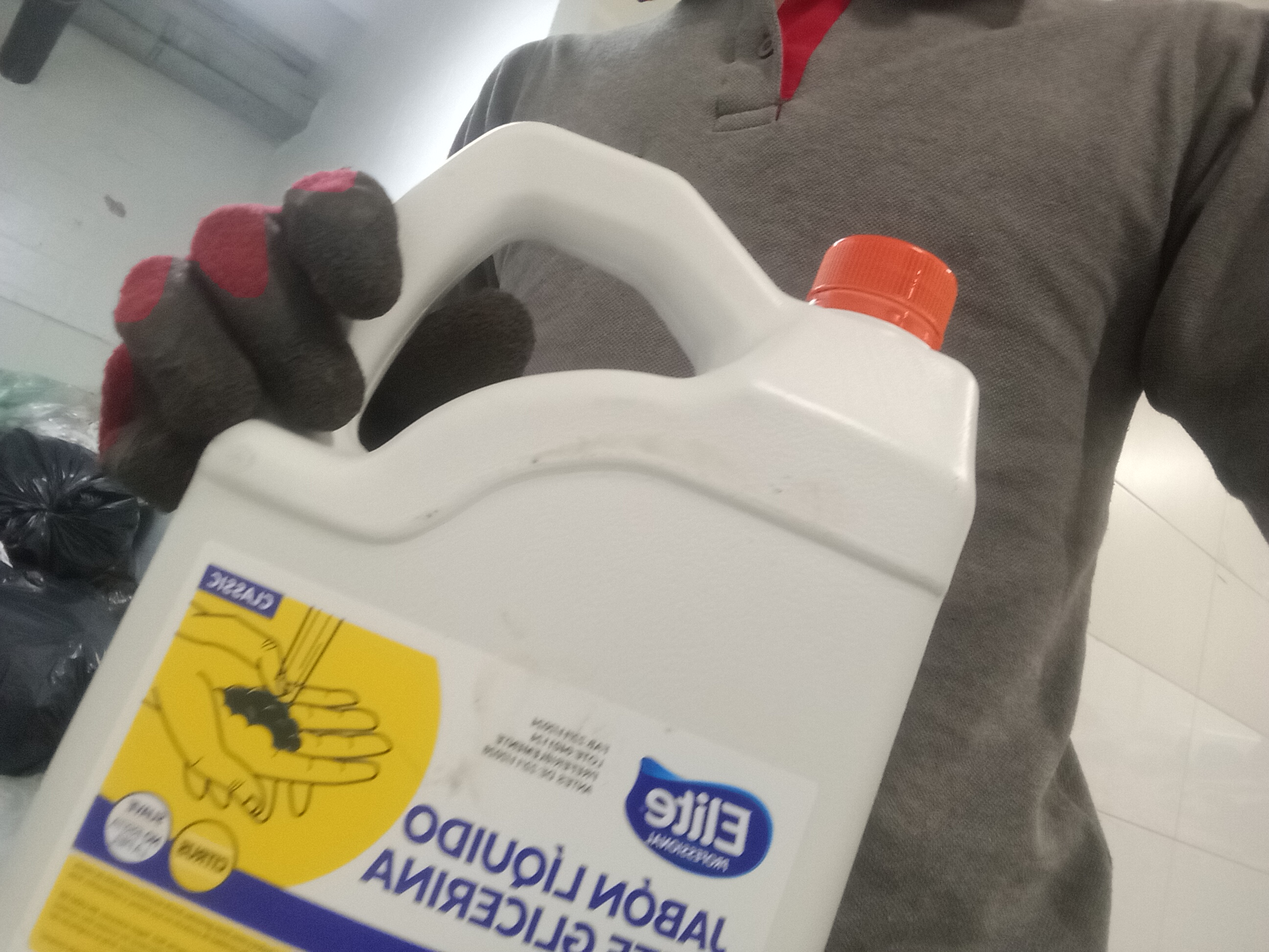Plastico: (0, 119, 978, 952)
